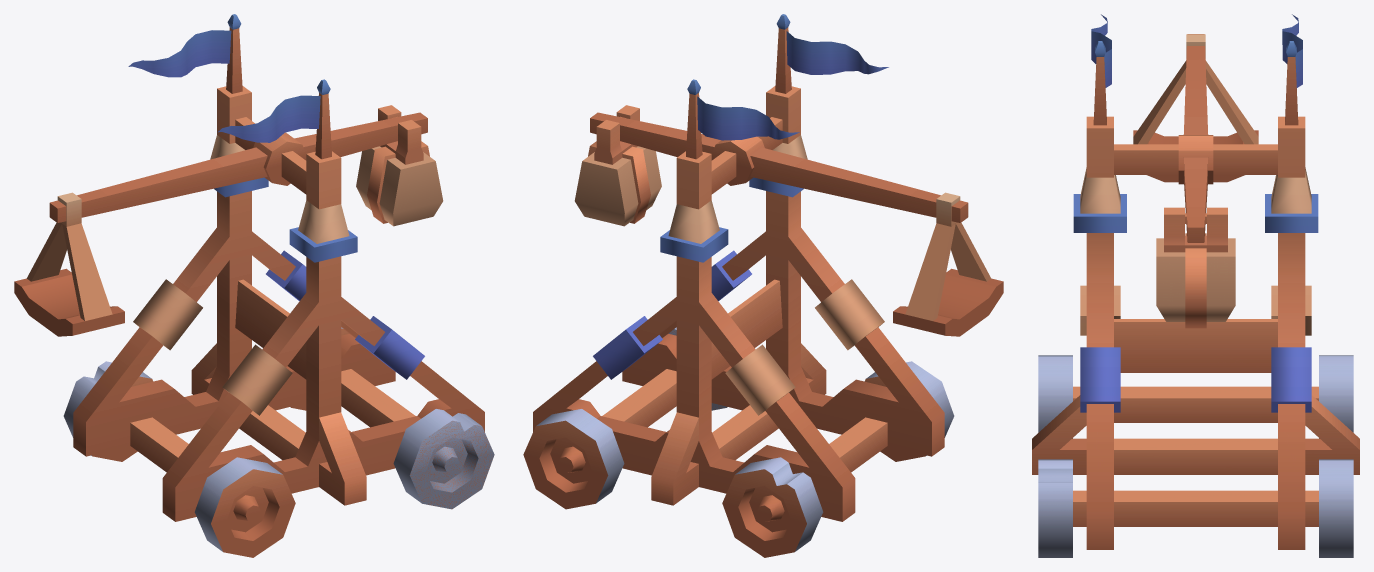
Rendered from k-castle-siege-trebuchet.glb.
3 views of the same model, side by side, from view 1: azimuth 30°, elevation 25°; view 2: azimuth 150°, elevation 25°; view 3: azimuth 270°, elevation 25° (orthographic). The views are drawn at different scales.
Visible parts, largest first — view 1: siege-trebuchet, wheel (×3), catapult (×2), arm, weight (×2); view 2: siege-trebuchet, wheel (×3), catapult (×2), arm, weight (×2); view 3: siege-trebuchet, wheel (×4), weight (×2), arm, catapult (×2).
Boxes of the visible parts, <box> form: siege-trebuchet: <box>73,14,484,521</box>; wheel (×3): <box>63,361,494,557</box>; catapult (×2): <box>14,192,124,336</box>; arm: <box>49,112,427,222</box>; weight (×2): <box>356,105,443,226</box>; siege-trebuchet: <box>533,14,944,521</box>; wheel (×3): <box>523,361,954,557</box>; catapult (×2): <box>893,192,1003,336</box>; arm: <box>590,112,968,222</box>; weight (×2): <box>574,105,661,226</box>; siege-trebuchet: <box>1032,14,1359,549</box>; wheel (×4): <box>1038,355,1353,557</box>; weight (×2): <box>1156,207,1235,328</box>; arm: <box>1178,34,1213,242</box>; catapult (×2): <box>1133,34,1258,182</box>.
Size of the model in its own units: 1.85 by 1.96 by 1.26.
1 material, 1 textured.
